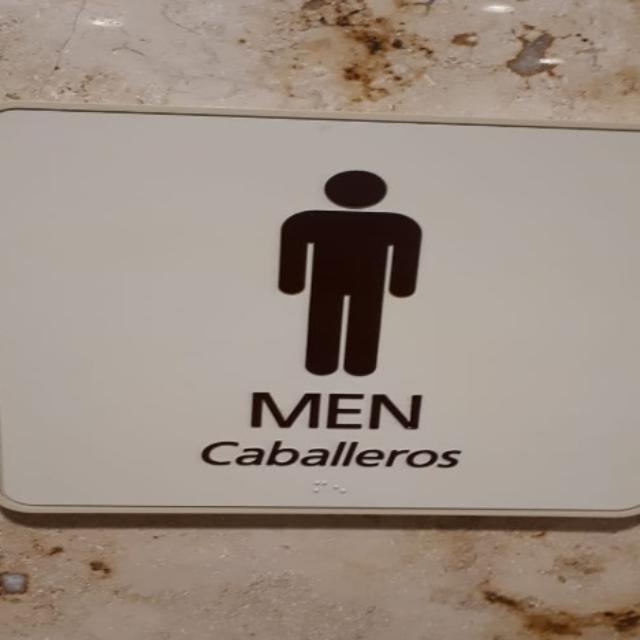wc nam: (0, 105, 637, 514)
